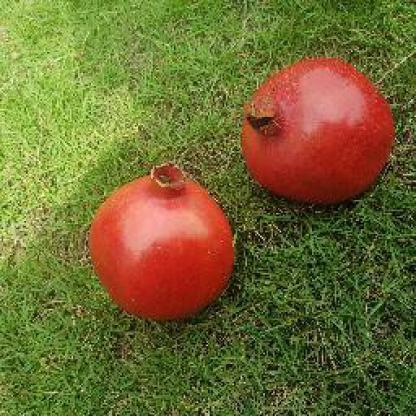pomegranate: (240, 58, 395, 206), (88, 167, 234, 322)
